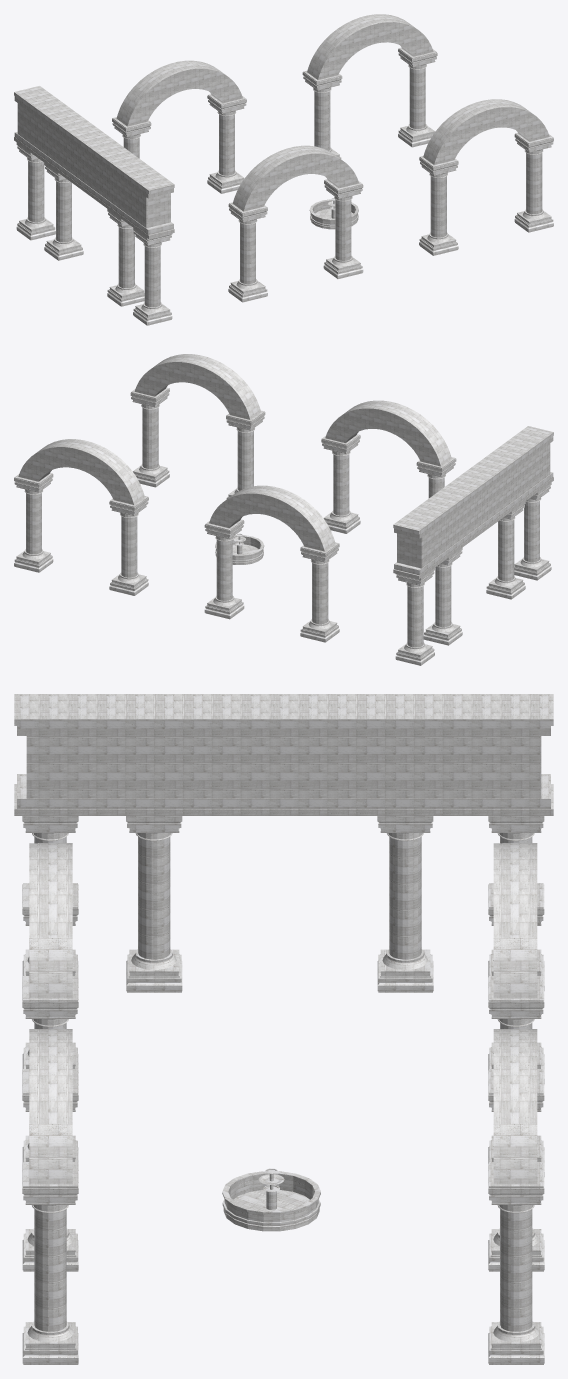
File: ruinas.FBX
The picture shows the model from 3 angles, top to bottom: view 1: azimuth 30°, elevation 25°; view 2: azimuth 150°, elevation 25°; view 3: azimuth 270°, elevation 25°; orthographic projection. The views are drawn at different scales.
Parts seen in each view (by area): view 1: Box025, Arc001, Arc004, Arc002, Arc003, Cylinder001, Cylinder005, Cylinder004, Cylinder003, Cylinder010, Cylinder006, Cylinder012 (+23 smaller); view 2: Box025, Arc002, Arc003, Arc001, Arc004, Cylinder007, Cylinder006, Cylinder005, Cylinder009, Cylinder003, Cylinder008, Cylinder012 (+23 smaller); view 3: Box025, Arc003, Arc004, Arc002, Arc001, Cylinder013, Cylinder010, Cylinder005, Cylinder011, Cylinder012, Box023, Box021 (+12 smaller).
Boxes of the visible parts, x1,y1,x2,y2 form: Box025: (14,86,174,238); Arc001: (423,99,549,164); Arc004: (116,60,242,126); Arc002: (232,145,358,211); Arc003: (307,14,433,79); Cylinder001: (141,242,163,312); Cylinder005: (522,149,545,219); Cylinder004: (427,172,449,242); Cylinder003: (332,196,354,265); Cylinder010: (406,64,428,134); Cylinder006: (25,158,47,227); Cylinder012: (115,224,137,293); Box025: (393,426,553,579); Arc002: (325,400,451,466); Arc003: (18,439,144,504); Arc001: (134,354,260,419); Arc004: (209,485,335,551); Cylinder007: (308,559,331,629); Cylinder006: (404,582,426,652); Cylinder005: (139,404,161,474); Cylinder009: (118,512,140,582); Cylinder003: (330,450,352,520); Cylinder008: (213,536,235,605); Cylinder012: (494,517,517,586); Box025: (14,694,553,815); Arc003: (493,1029,537,1184); Arc004: (493,843,537,998); Arc002: (29,843,72,998); Arc001: (29,1029,72,1184); Cylinder013: (222,1168,320,1231); Cylinder010: (493,1205,538,1342); Cylinder005: (27,1205,73,1342); Cylinder011: (382,833,428,969); Cylinder012: (131,833,176,969); Box023: (126,949,182,992); Box021: (377,949,433,992).
Size of the model in its own units: 103260 by 33157 by 59242.
Materials: 1 (1 with a texture image).
